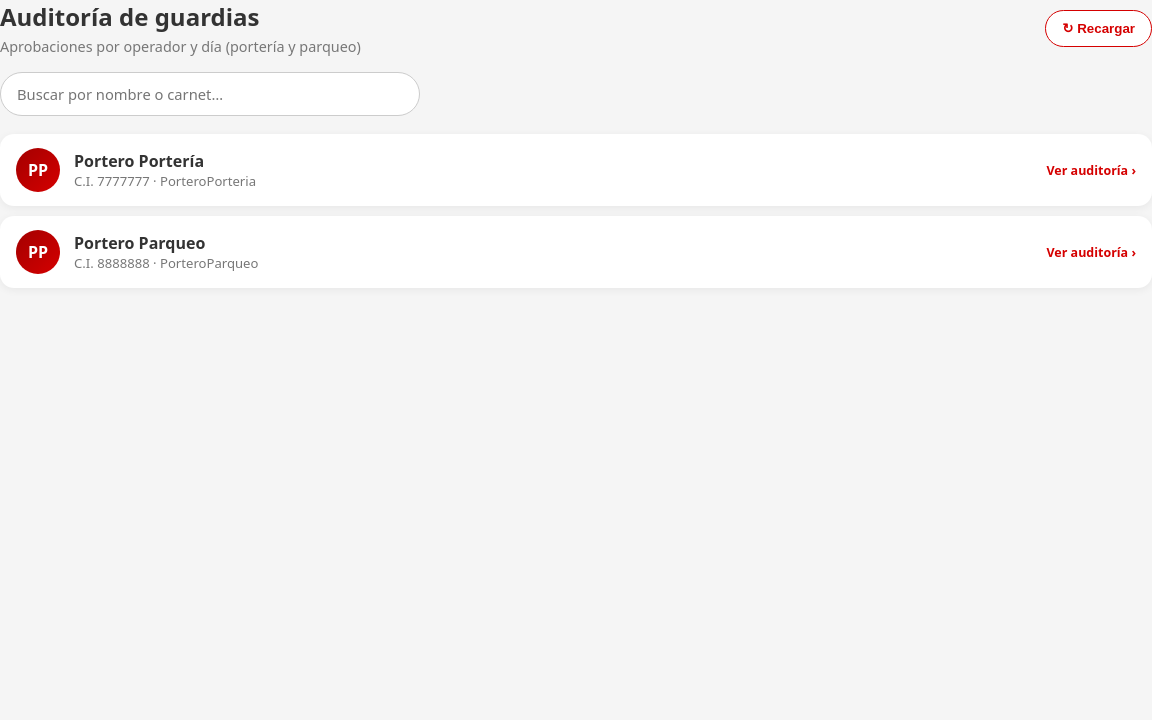
Test: AuditoriaComponent (vista de auditoría de guardias) › abre el detalle del guardia con resumen, secciones y estados
Click the list item with class "auditoria__item" that starts with "Portero Portería".
click(576, 170)  # box [0,134,1151,206]
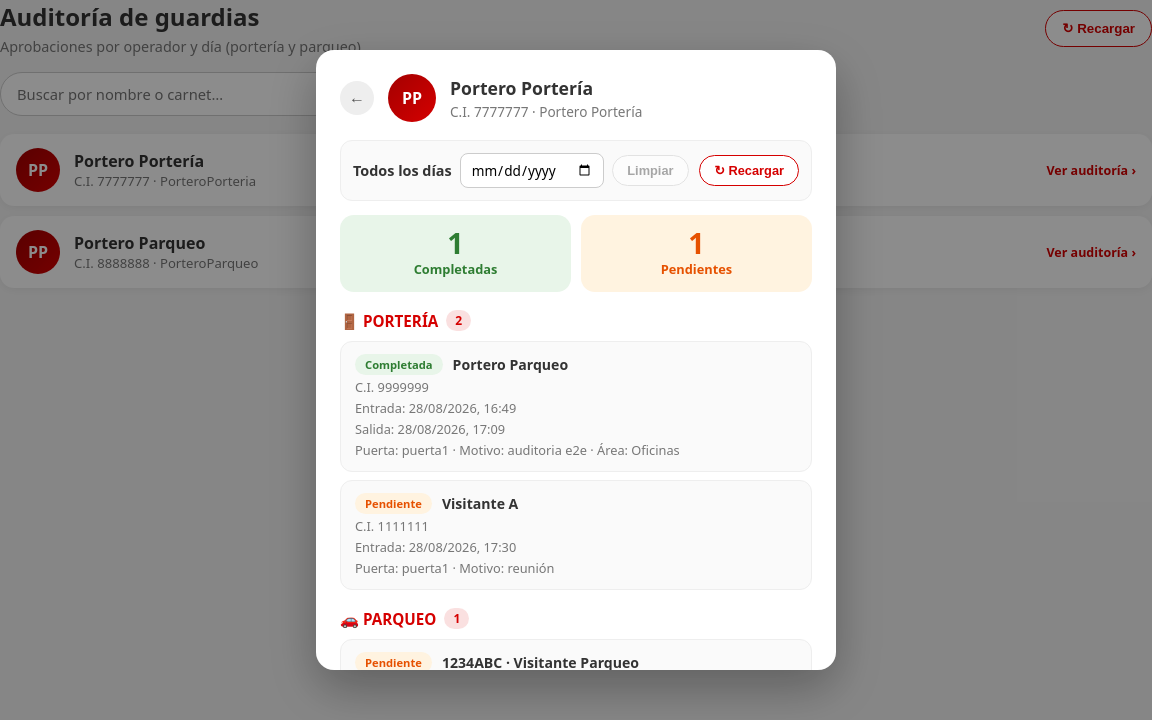
Result: the text "Todos los días" is shown at [353,161,452,180]
Result: the text "Completadas" is shown at [414,260,497,278]
Result: the text "Pendientes" is shown at [661,260,732,278]
